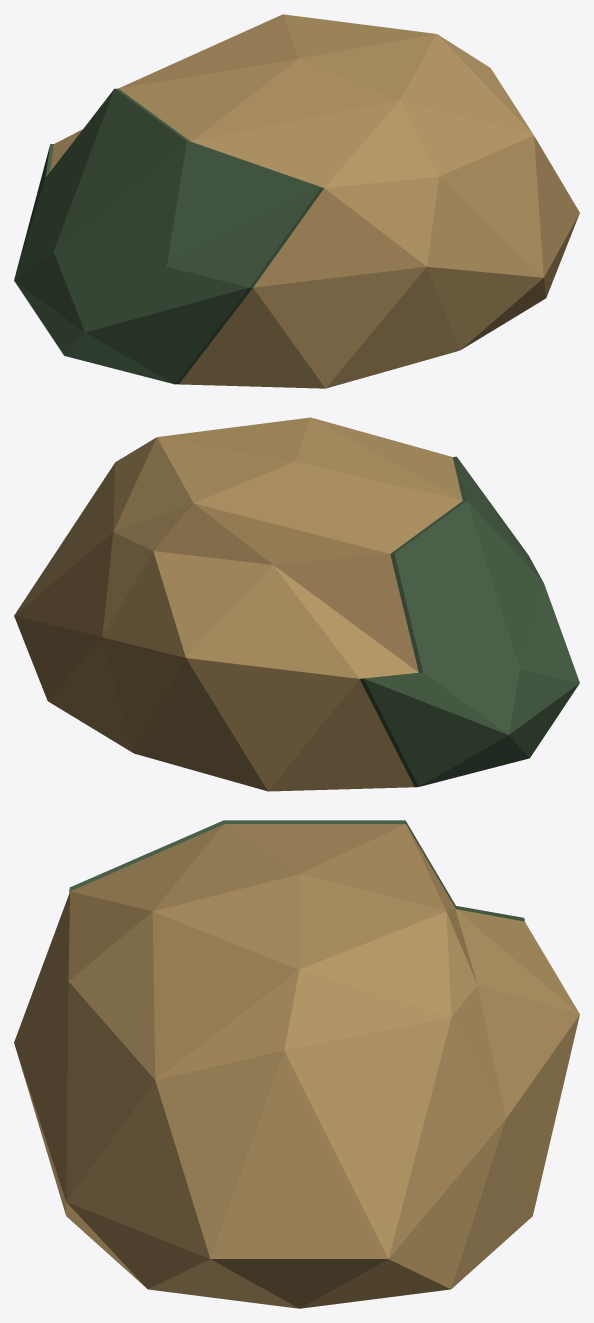
The model's file is MossStone2W.fbx.
The picture shows the model from 3 angles, top to bottom: view 1: azimuth 30°, elevation 25°; view 2: azimuth 150°, elevation 25°; view 3: azimuth 270°, elevation 25°; orthographic projection. The views are drawn at different scales.
Parts seen in each view (by area): view 1: MossStone2W; view 2: MossStone2W; view 3: MossStone2W.
Part boxes in pixels (x1,y1,x2,y2): MossStone2W: [14, 14, 579, 388]; MossStone2W: [14, 417, 579, 791]; MossStone2W: [14, 820, 579, 1308].
Size of the model in its own units: 496 by 231 by 392.
